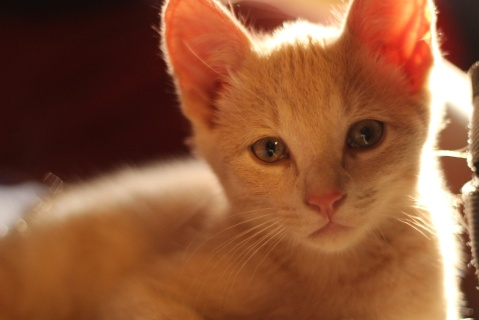Cat: (1, 0, 468, 317)
